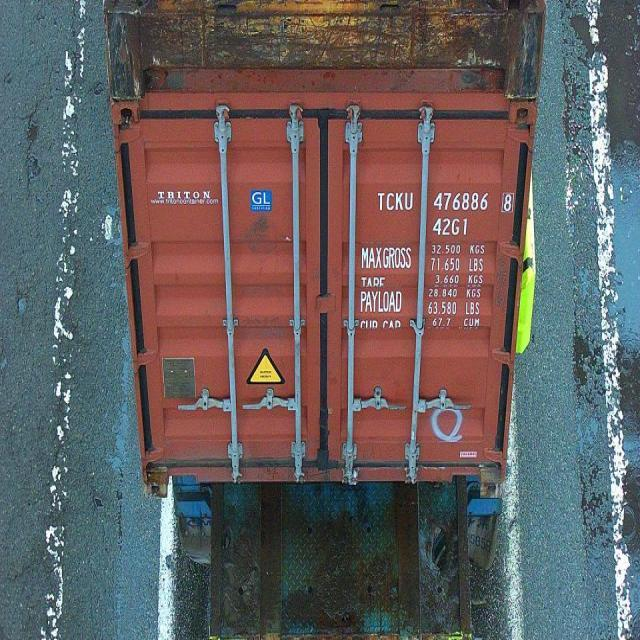ISO: (434, 217, 470, 236)
container_number: (379, 190, 513, 212)
